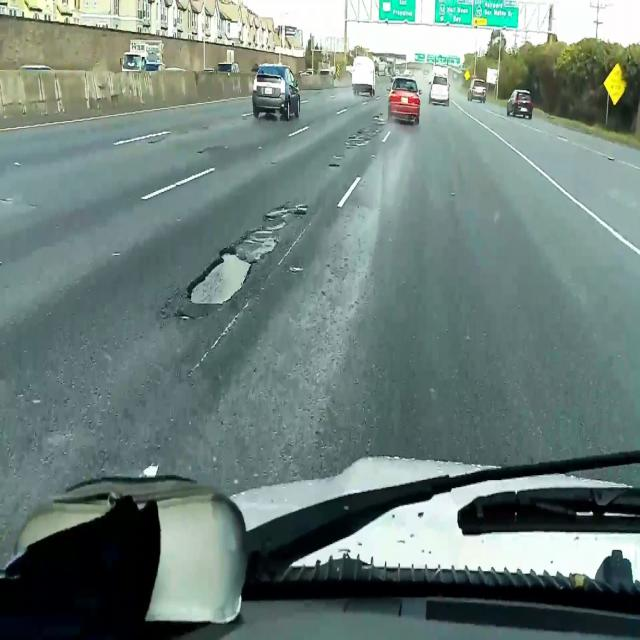Pothole: (184, 245, 254, 308), (345, 129, 370, 149), (372, 114, 386, 125)
